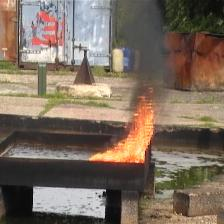fire: (89, 88, 155, 163)
